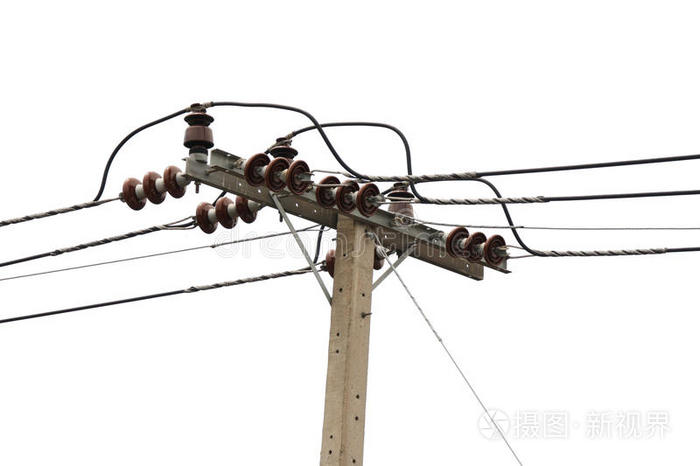insulator: (120, 163, 187, 211), (241, 151, 311, 194), (314, 174, 379, 217), (443, 225, 506, 269), (193, 194, 257, 235)
